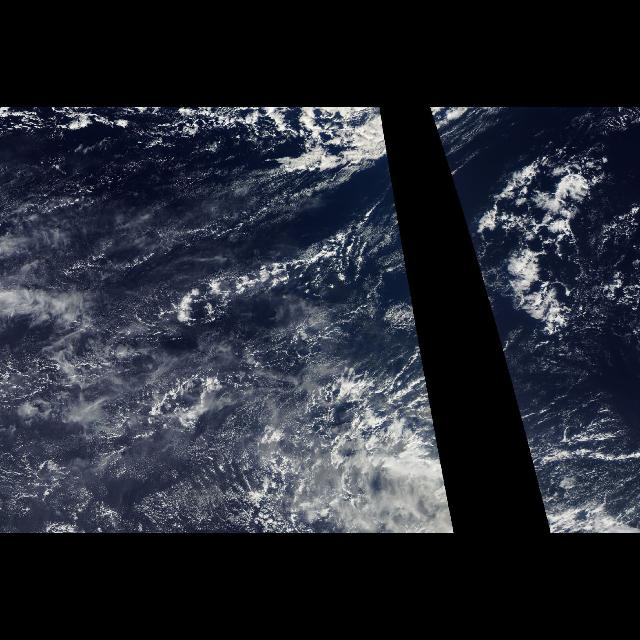Fish: (477, 123, 619, 351), (16, 107, 392, 177), (178, 255, 406, 327), (429, 107, 468, 177)
Gravel: (10, 363, 284, 527)
Sugar: (12, 238, 250, 532)
